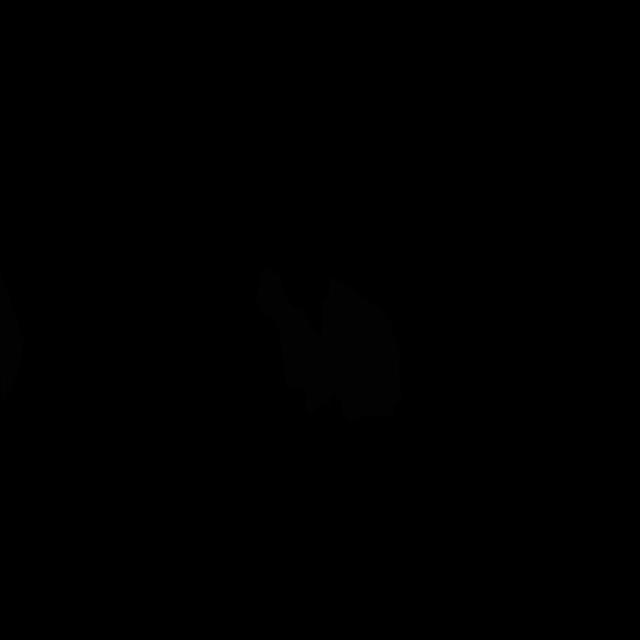cardboard: (256, 266, 402, 420)
